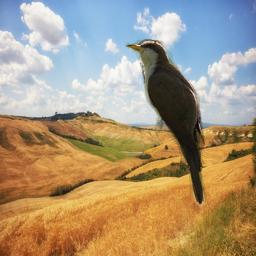Cuckoo: (125, 39, 209, 208)
